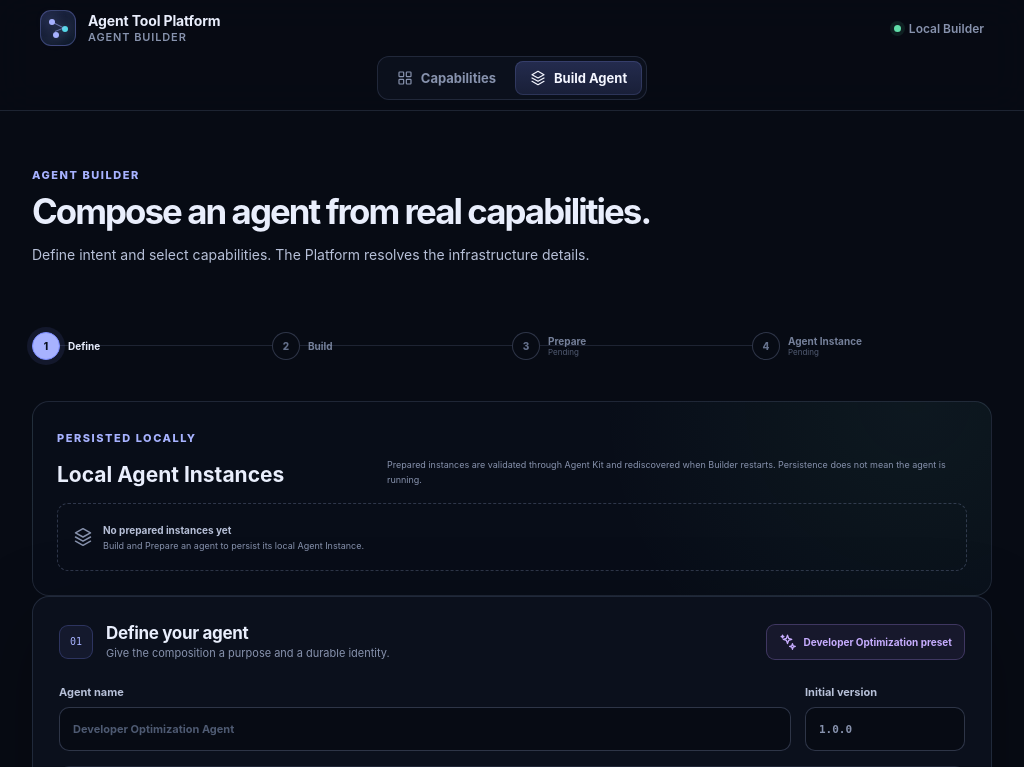
Test: Agent Builder UI › refreshes local discovery after Prepare succeeds
Expected: the text "No prepared instances yet" is shown, [103,524,231,536]
Click the button "Developer Optimization preset" at point(865, 642), box [766,624,965,660]
(page scrolled)
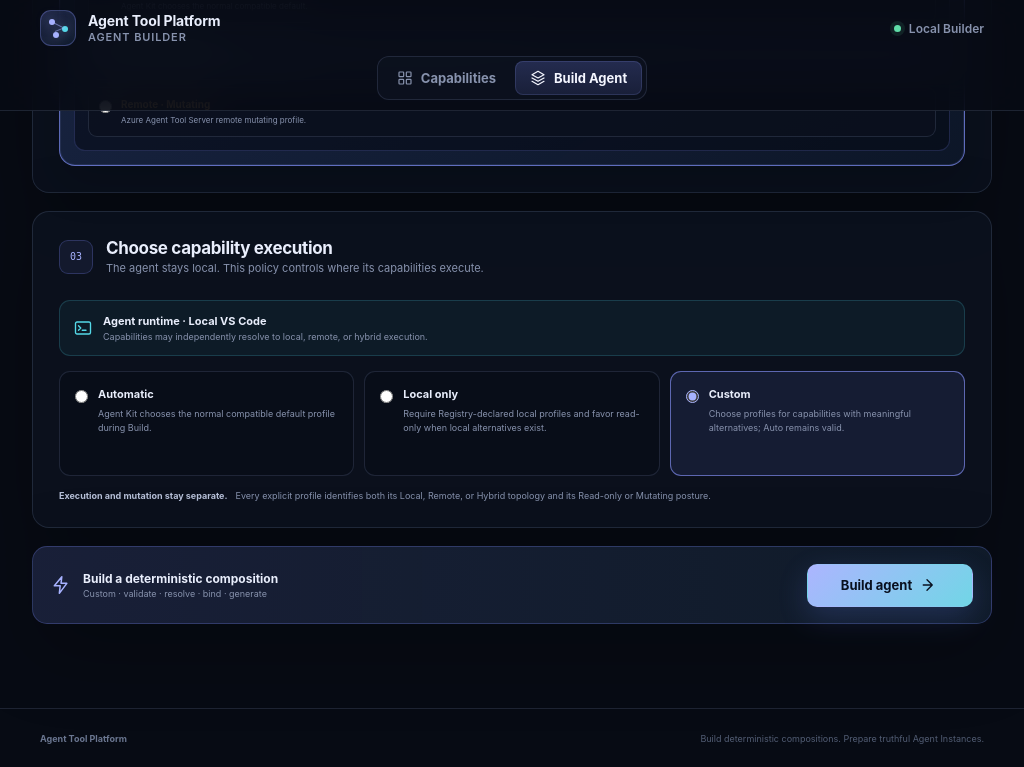
Click the button "Build agent" at point(890, 585), box [807,564,973,606]
(page scrolled)
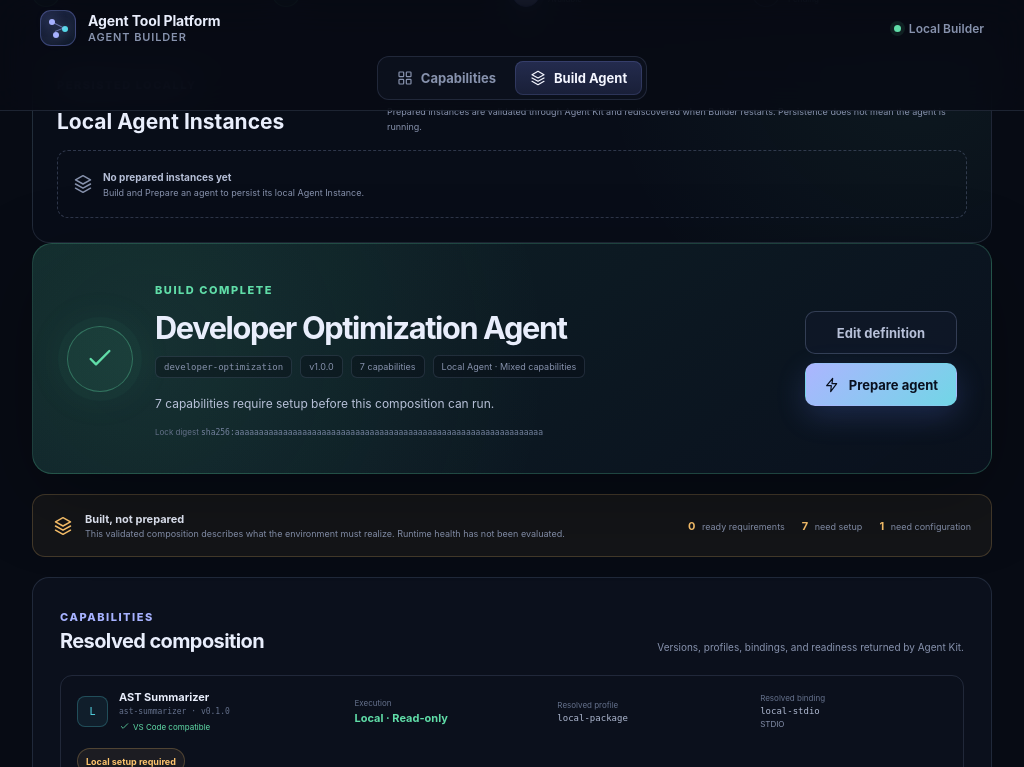
Expected: the text "Build complete" is shown, [155,283,273,297]
Click the button "Prepare agent" at point(881, 384), box [805,363,957,406]
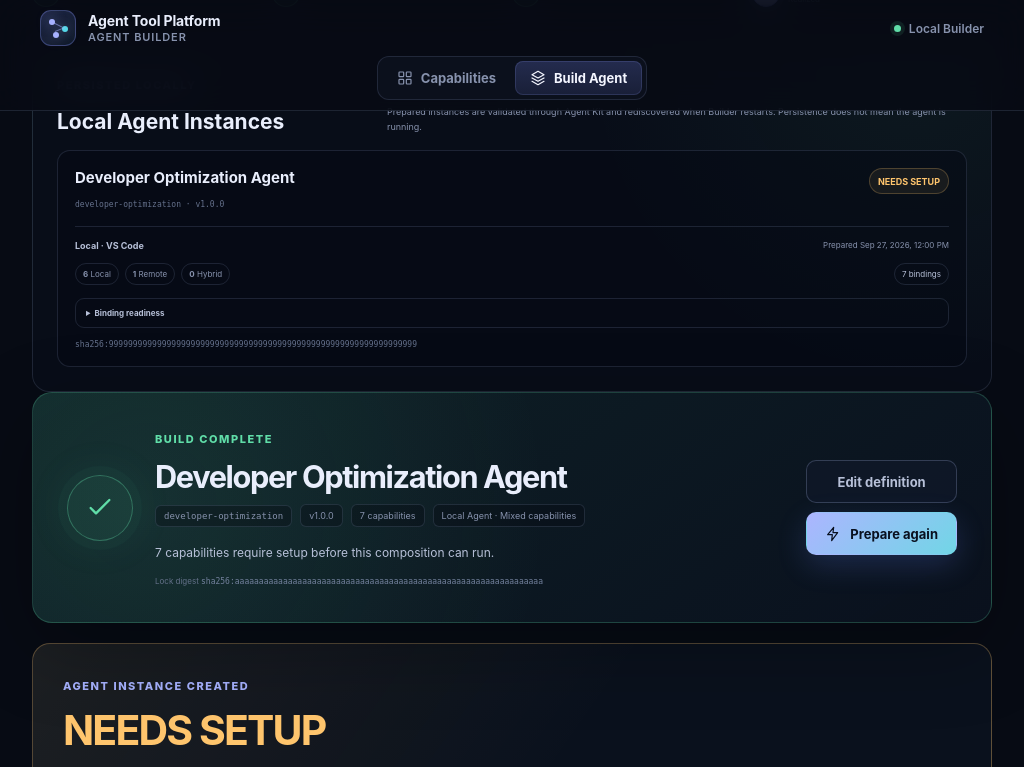
Expected: the heading "Developer Optimization Agent" below "Local Agent Instances" is shown, [75,168,295,187]
